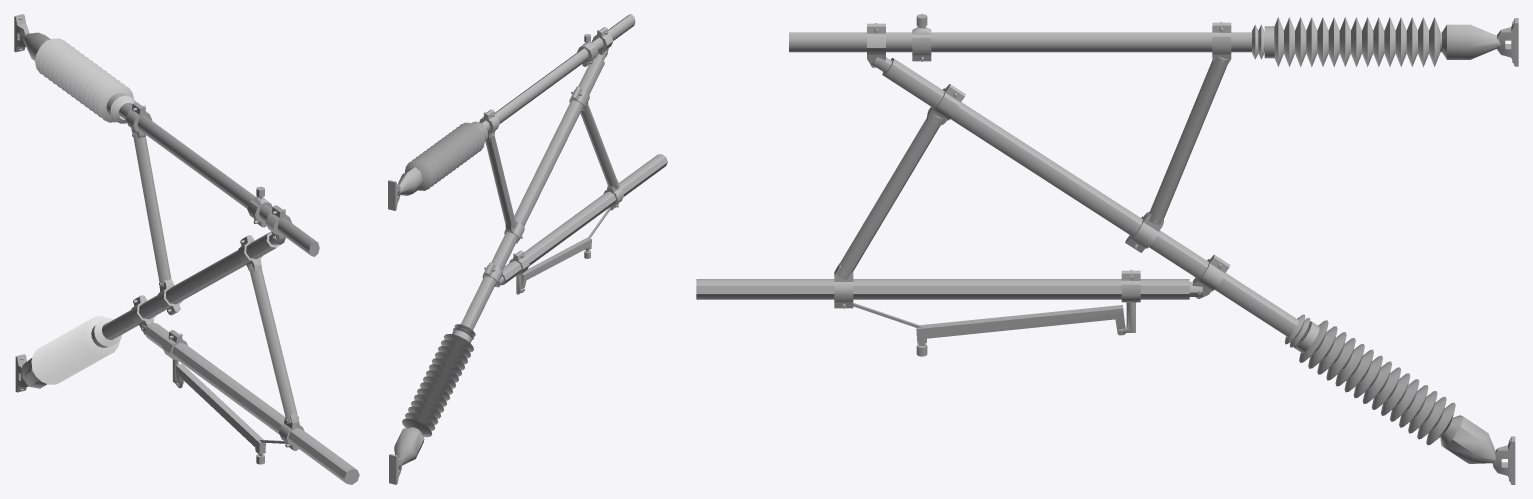
File: jiaxiangan1.obj
3 views of the same model, side by side, from view 1: azimuth 30°, elevation 25°; view 2: azimuth 150°, elevation 25°; view 3: azimuth 270°, elevation 25° (orthographic). The views are drawn at different scales.
Visible parts, largest first — view 1: jiaxiangan1; view 2: jiaxiangan1; view 3: jiaxiangan1.
Boxes of the visible parts, box(x1,y1,x2,y2) form: jiaxiangan1: box(14, 14, 359, 484); jiaxiangan1: box(388, 14, 667, 484); jiaxiangan1: box(696, 14, 1518, 484).
Bounding box in the file's own units: 0.1386 × 1.4 × 2.25.
1 material, 1 textured.
